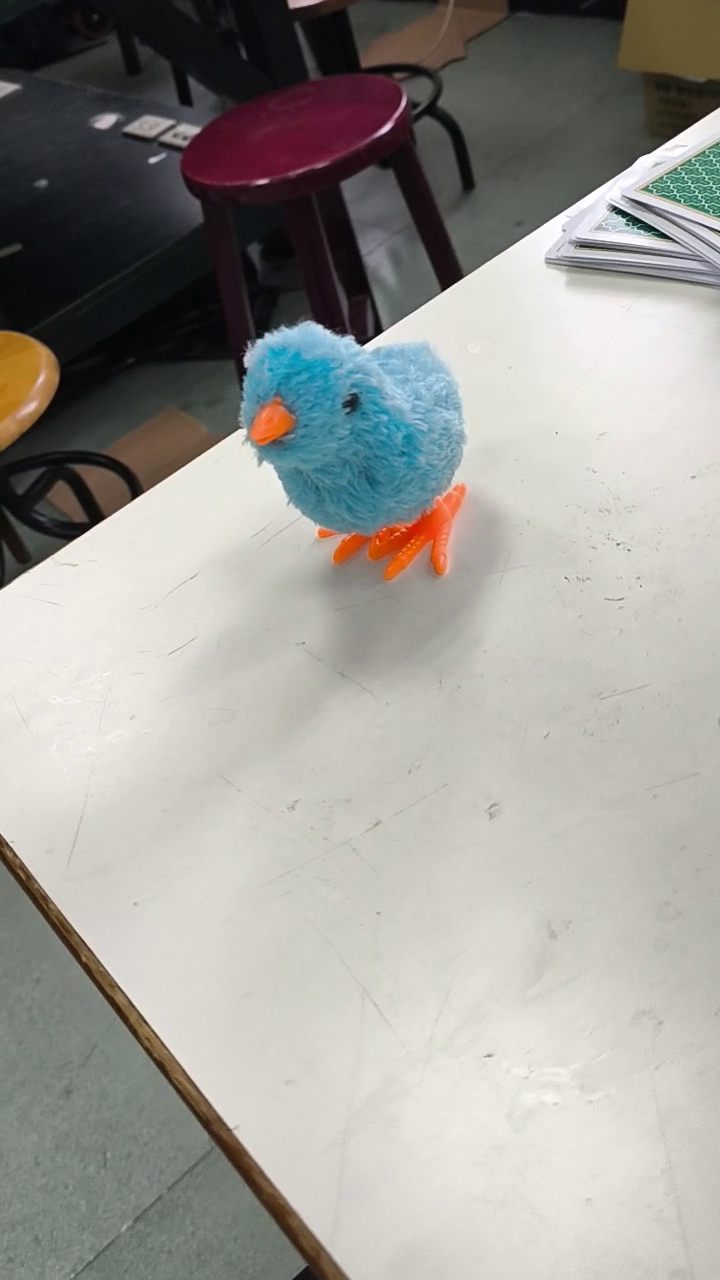blue chicken: (235, 317, 471, 586)
